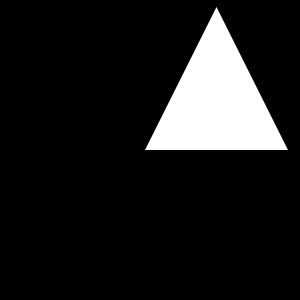triangle: (145, 7, 288, 150)
